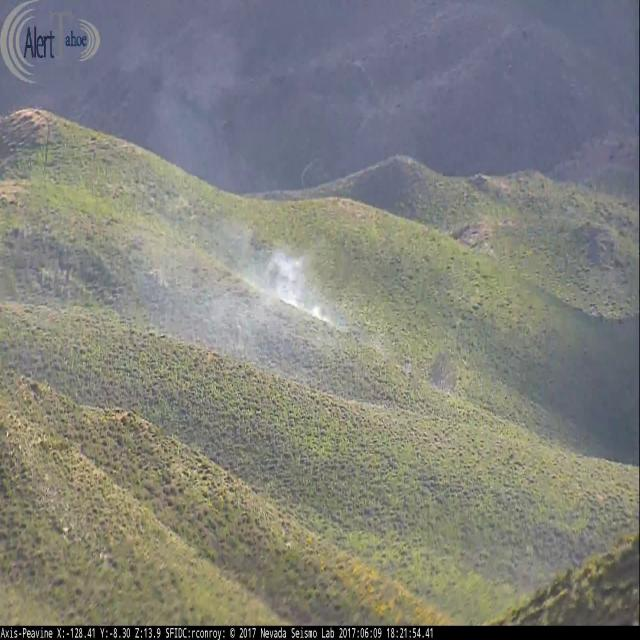smoke: (120, 40, 349, 396)
